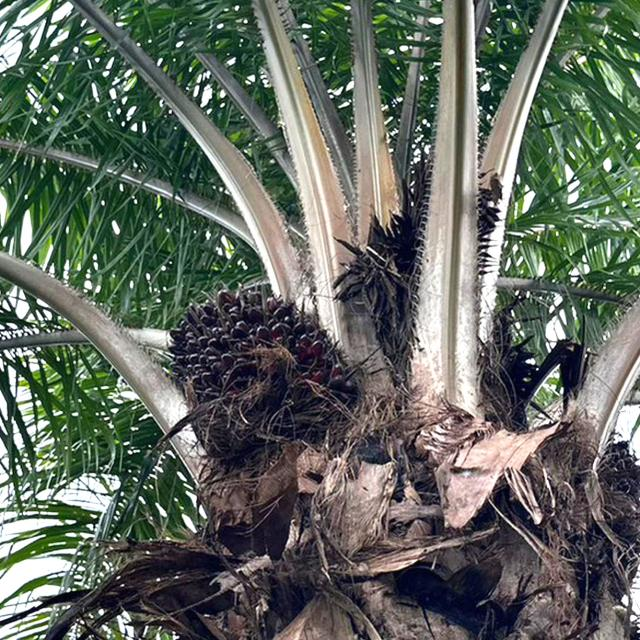almost: (159, 279, 373, 473)
